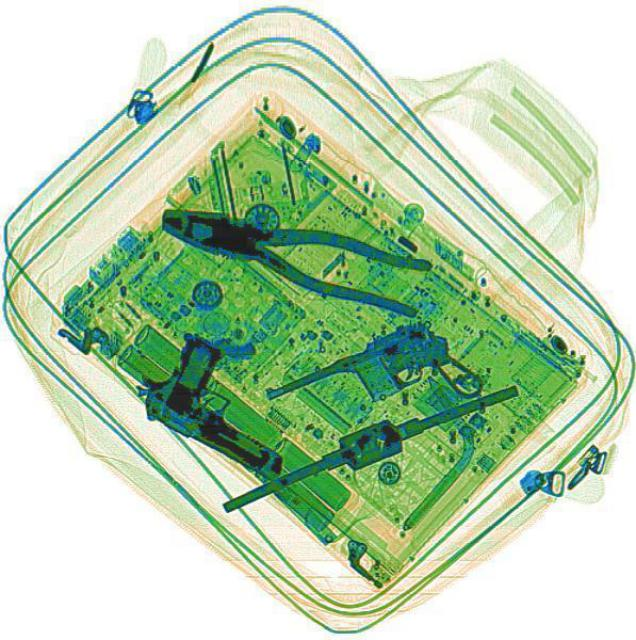Gun: (261, 306, 486, 468), (123, 324, 321, 484)
Pliers: (149, 185, 434, 318)
